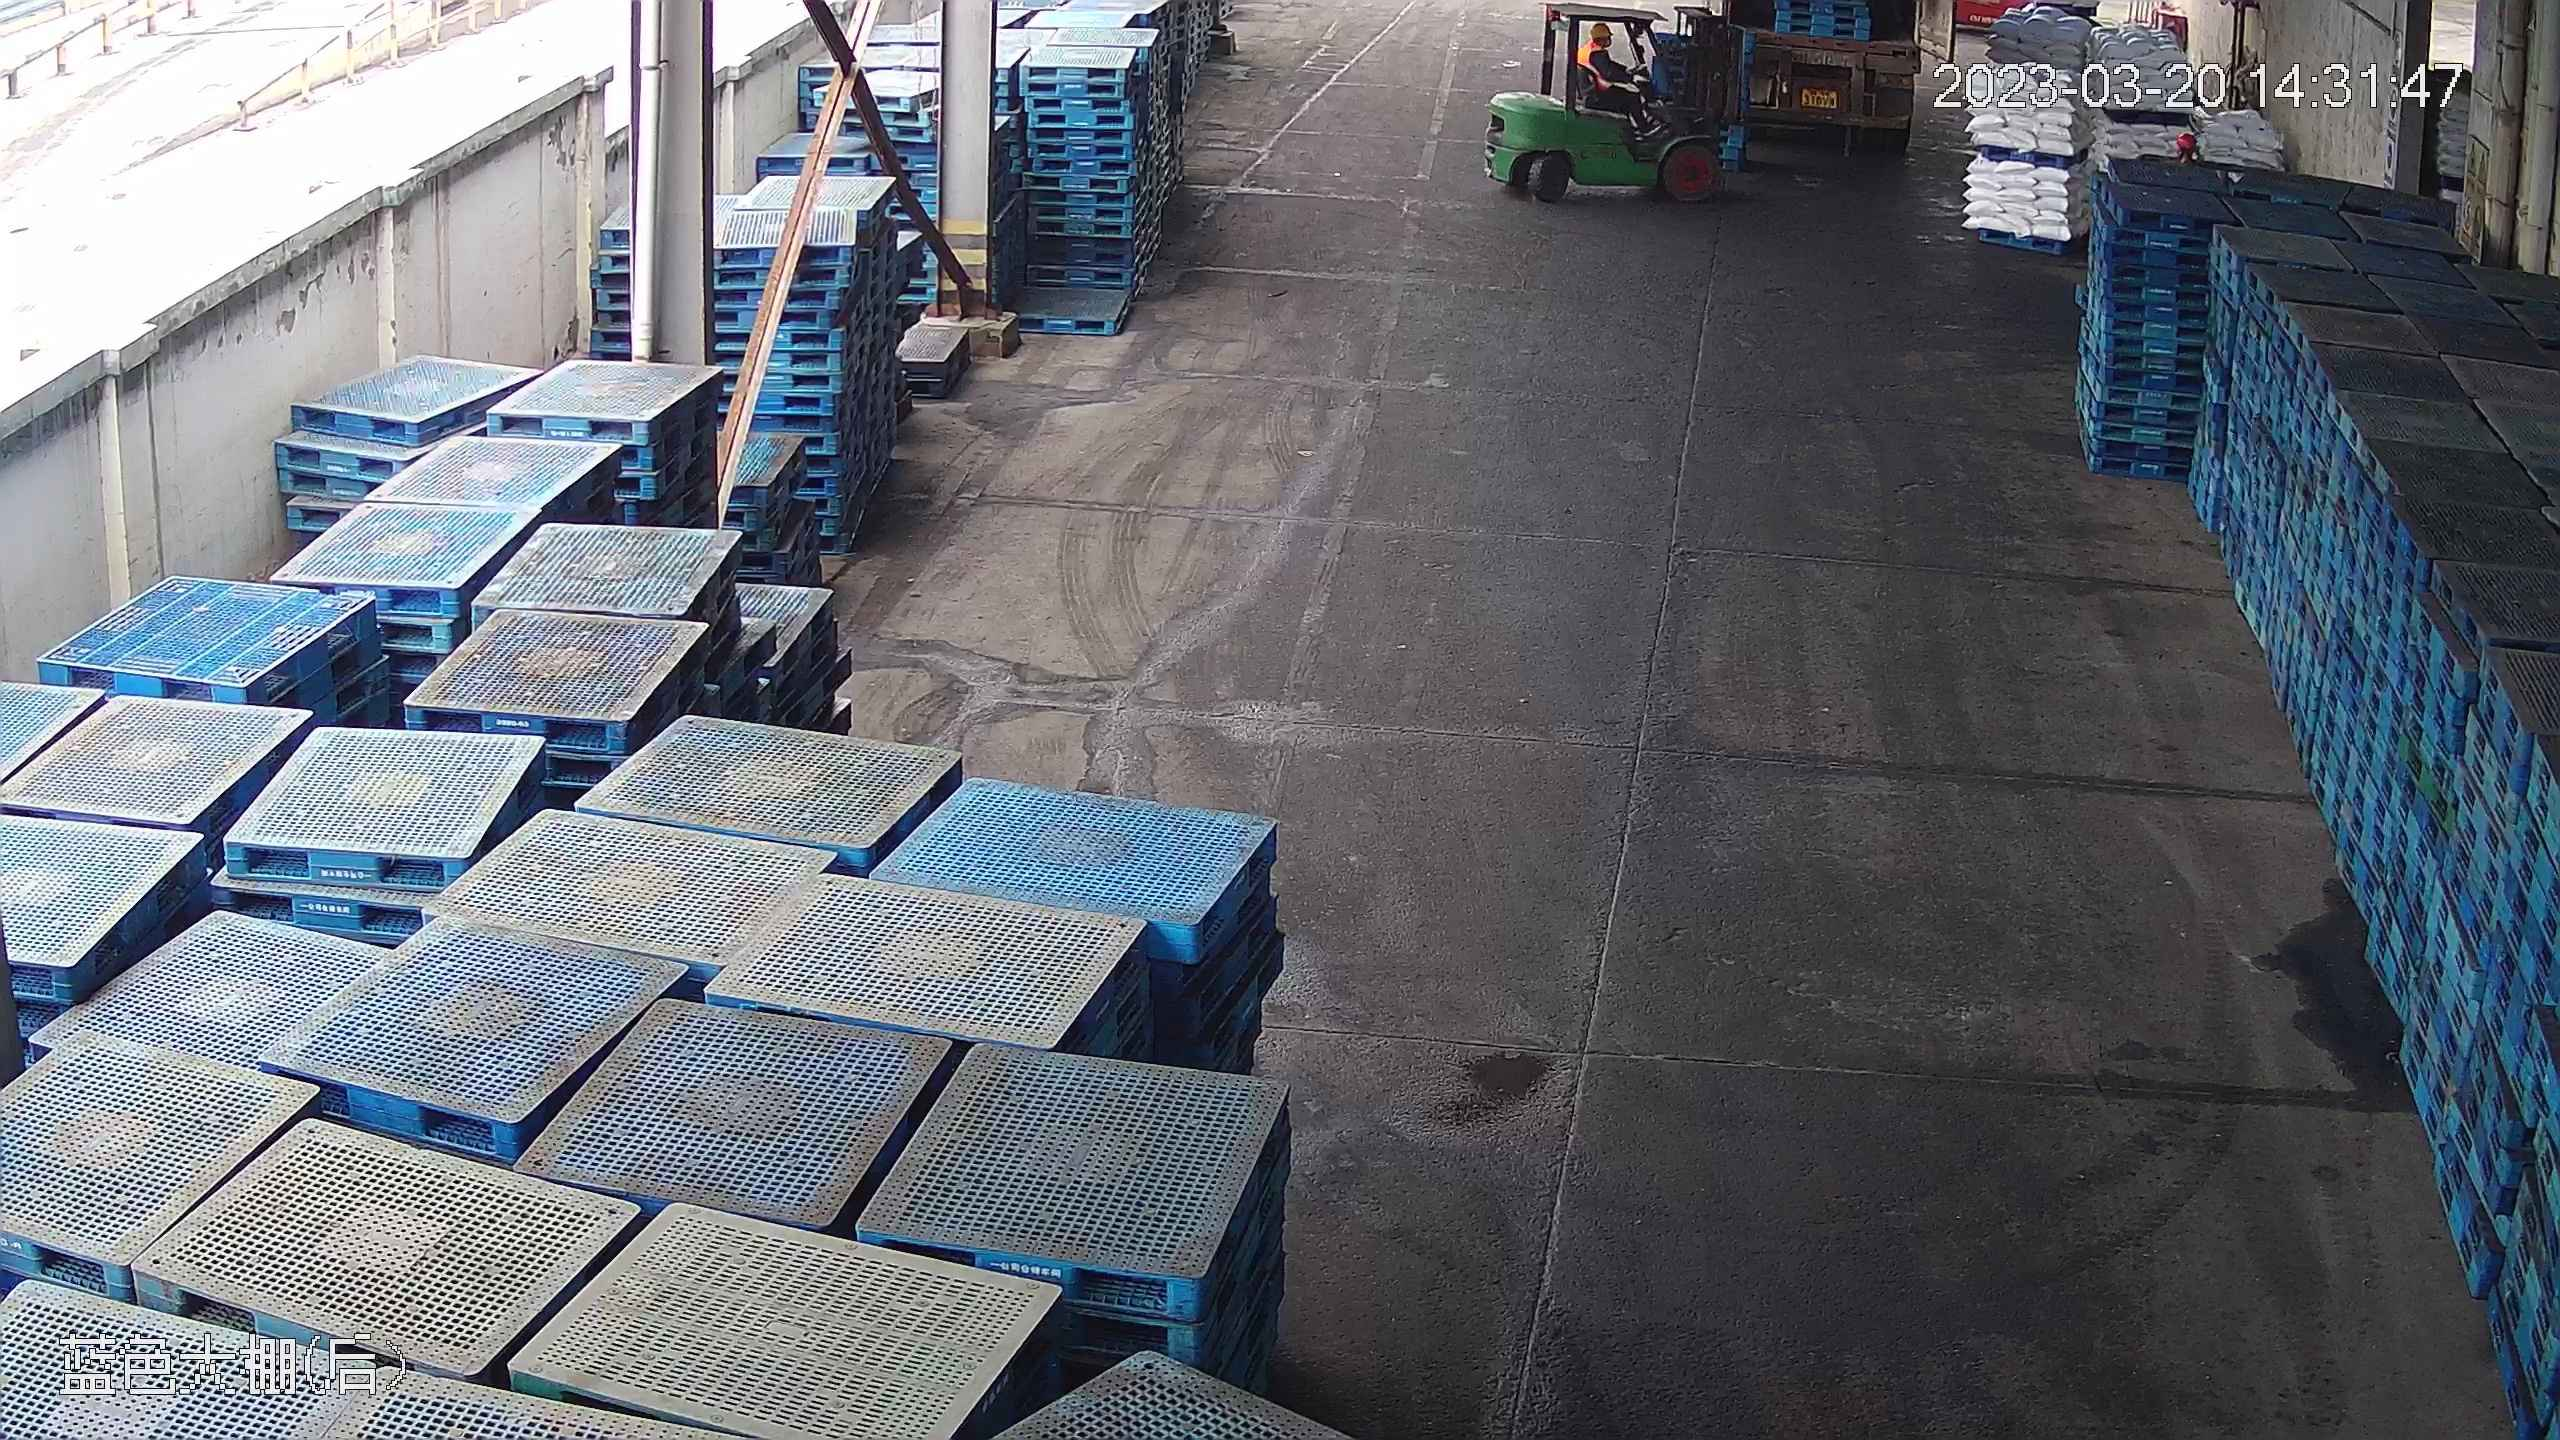head: (1577, 21, 1625, 66)
helmet: (1586, 22, 1613, 39)
people: (1579, 18, 1660, 121)
truck: (1738, 1, 1941, 139)
